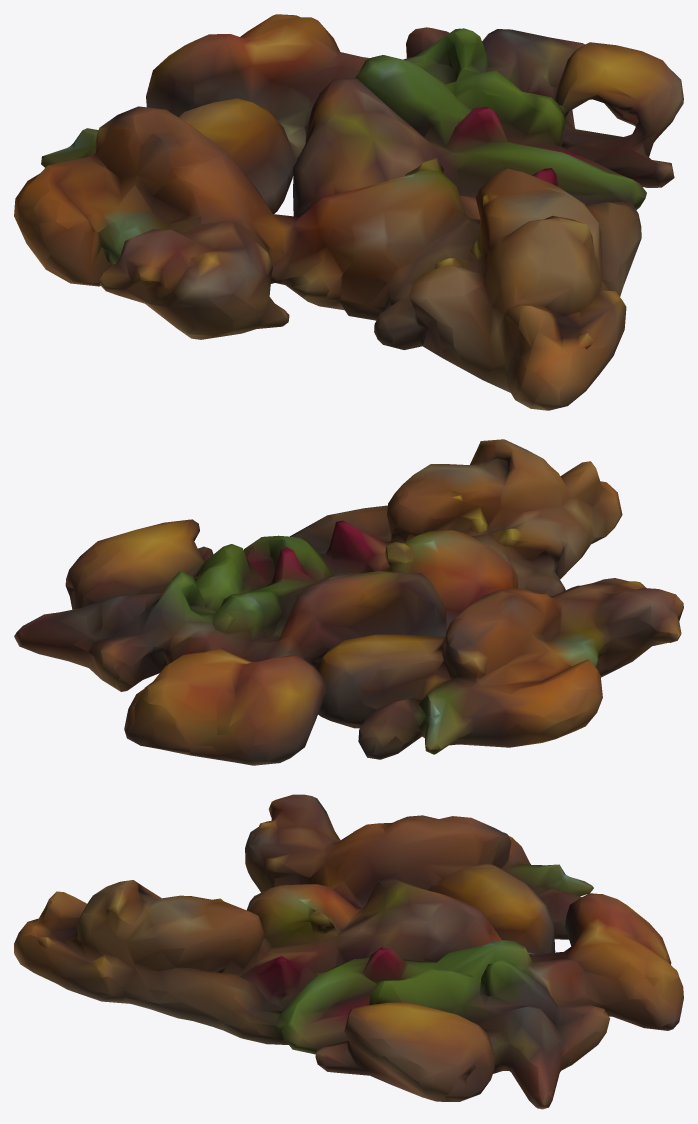
The model's file is 0002_mask_003_spicy_fried_chicken.glb.
The picture shows the model from 3 angles, top to bottom: view 1: azimuth 30°, elevation 25°; view 2: azimuth 150°, elevation 25°; view 3: azimuth 270°, elevation 25°; orthographic projection. The views are drawn at different scales.
Parts seen in each view (by area): view 1: mask_003_object; view 2: mask_003_object; view 3: mask_003_object.
Boxes of the visible parts, <box> form: mask_003_object: <box>14,14,683,410</box>; mask_003_object: <box>14,439,683,765</box>; mask_003_object: <box>14,794,683,1109</box>.
Size of the model in its own units: 0.4295 by 0.09 by 0.4812.
